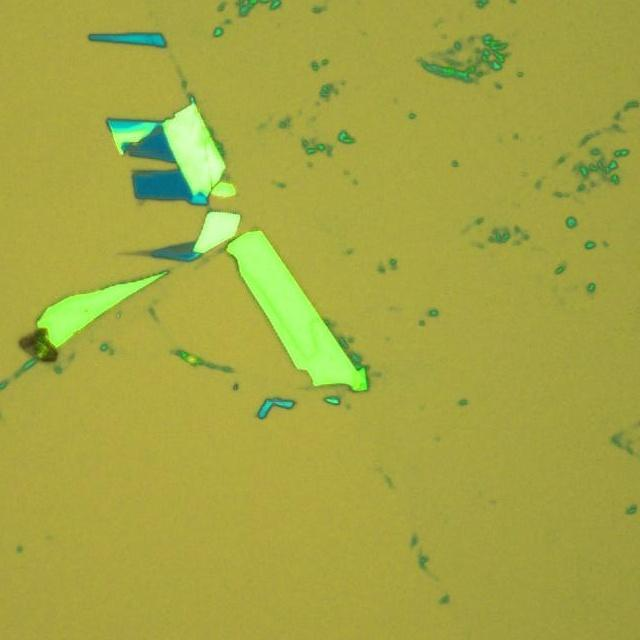monolayer-eWW4: (172, 247, 193, 254), (132, 250, 152, 256)
